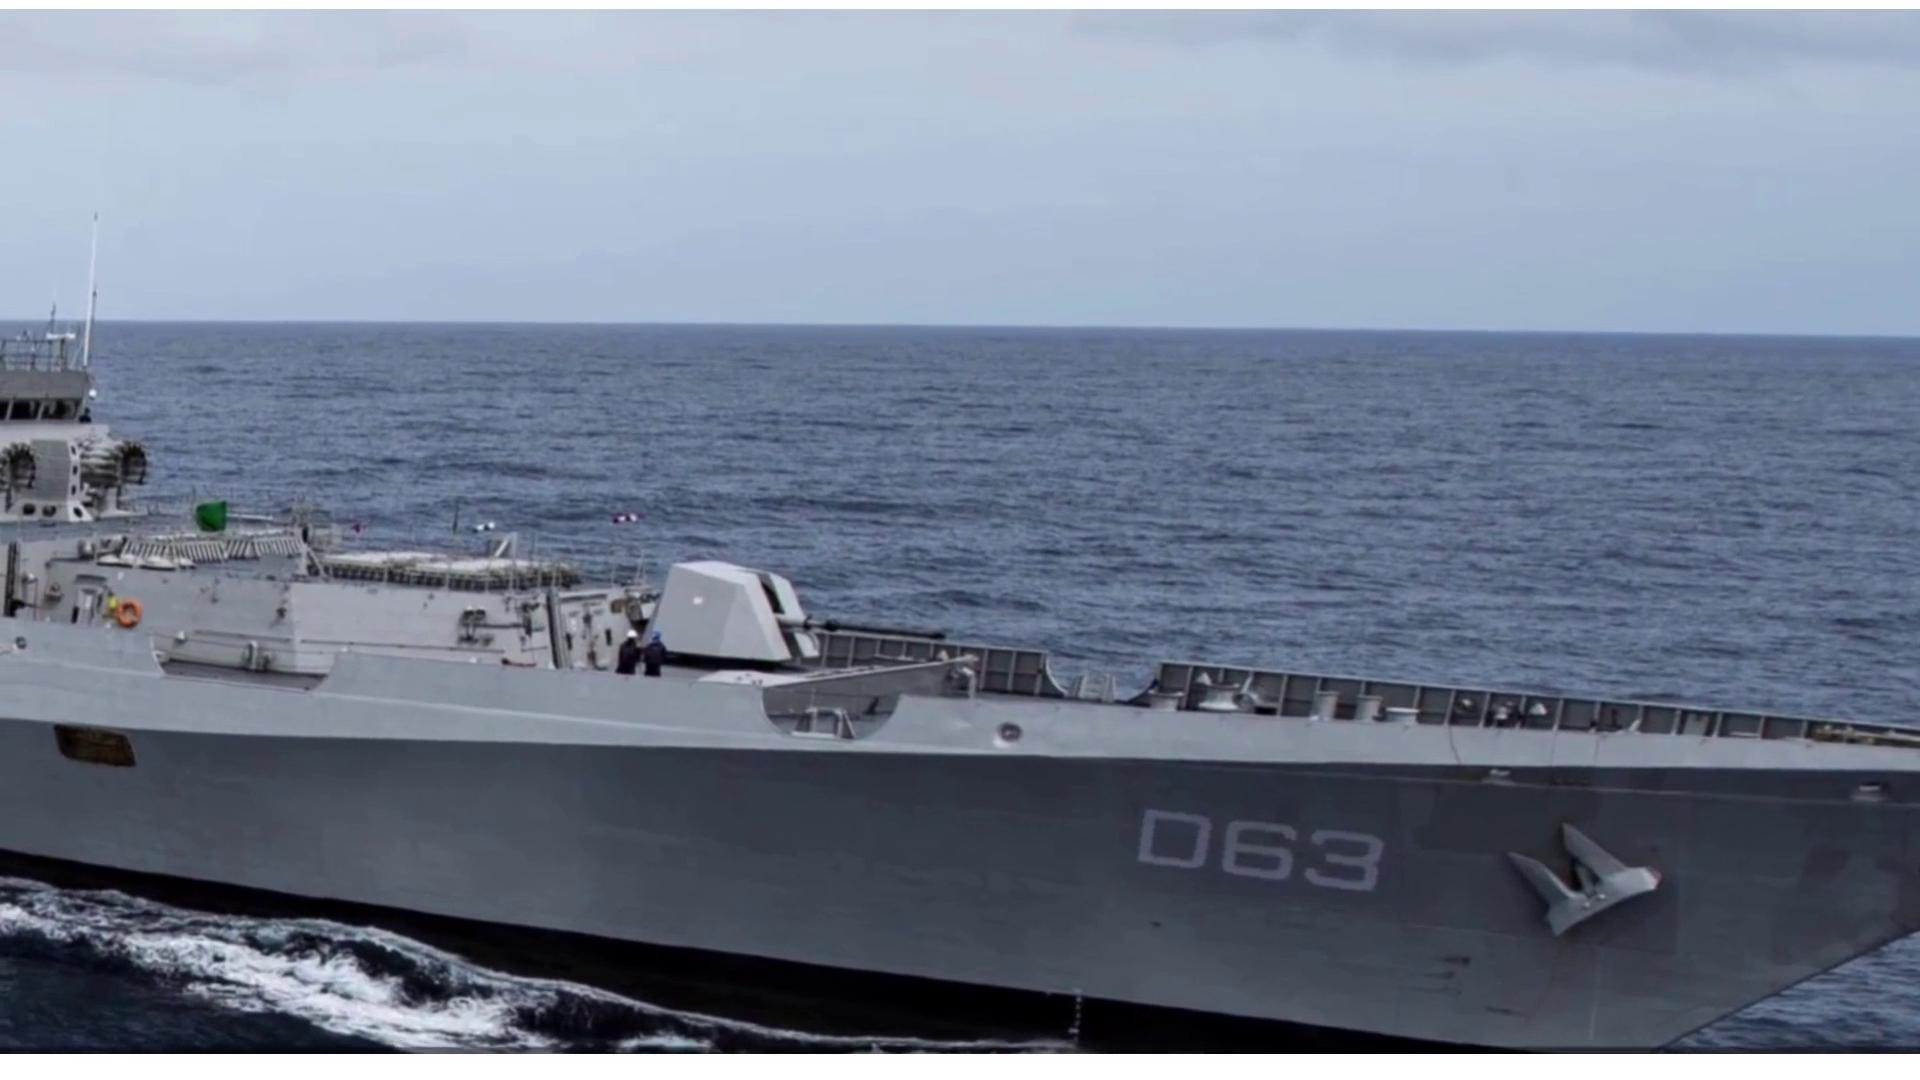OCR: (1120, 793, 1396, 895)
